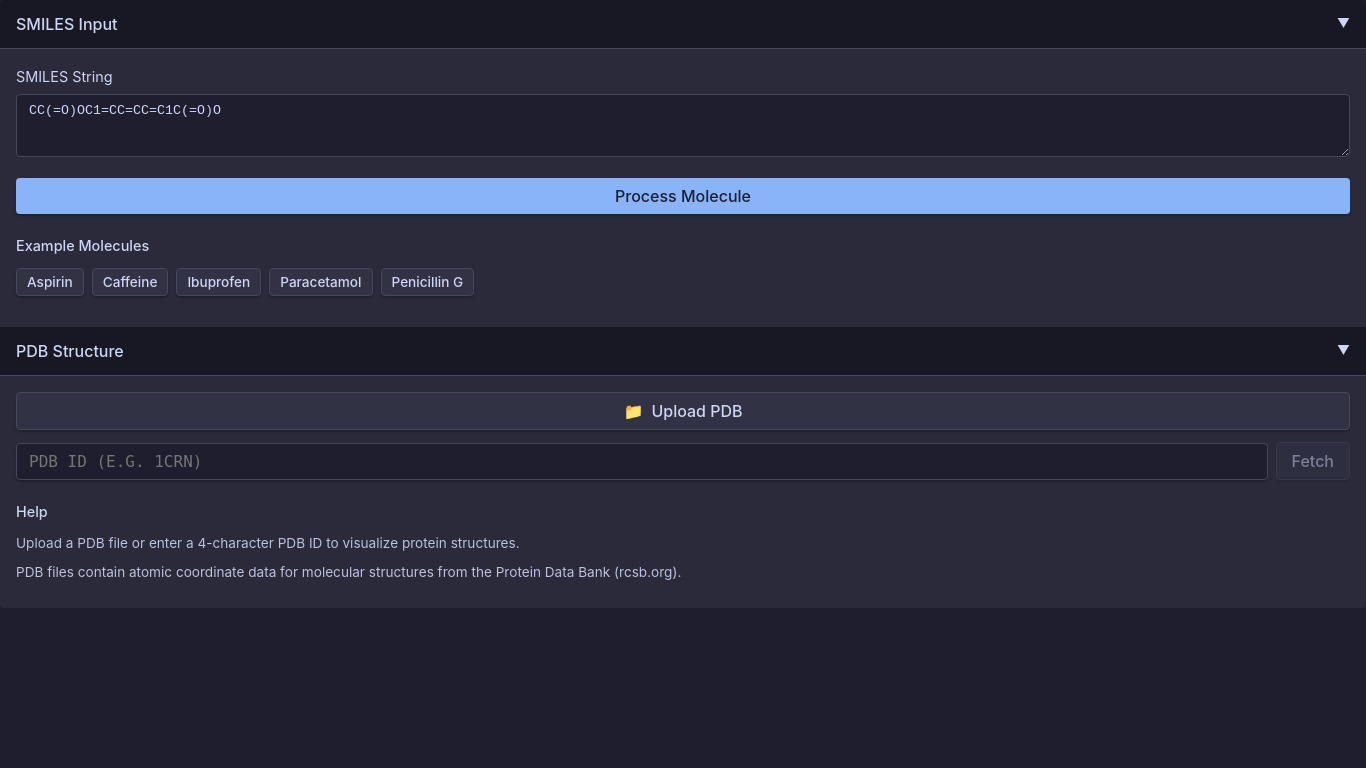
Test: MoleculeControls Component › toggles PDB section visibility
Expected: the button "📁 Upload PDB" is shown, [16, 392, 1350, 430]
// Click toggle button
Click the element showing "PDB Structure ▼": (683, 352) [0, 327, 1365, 376]
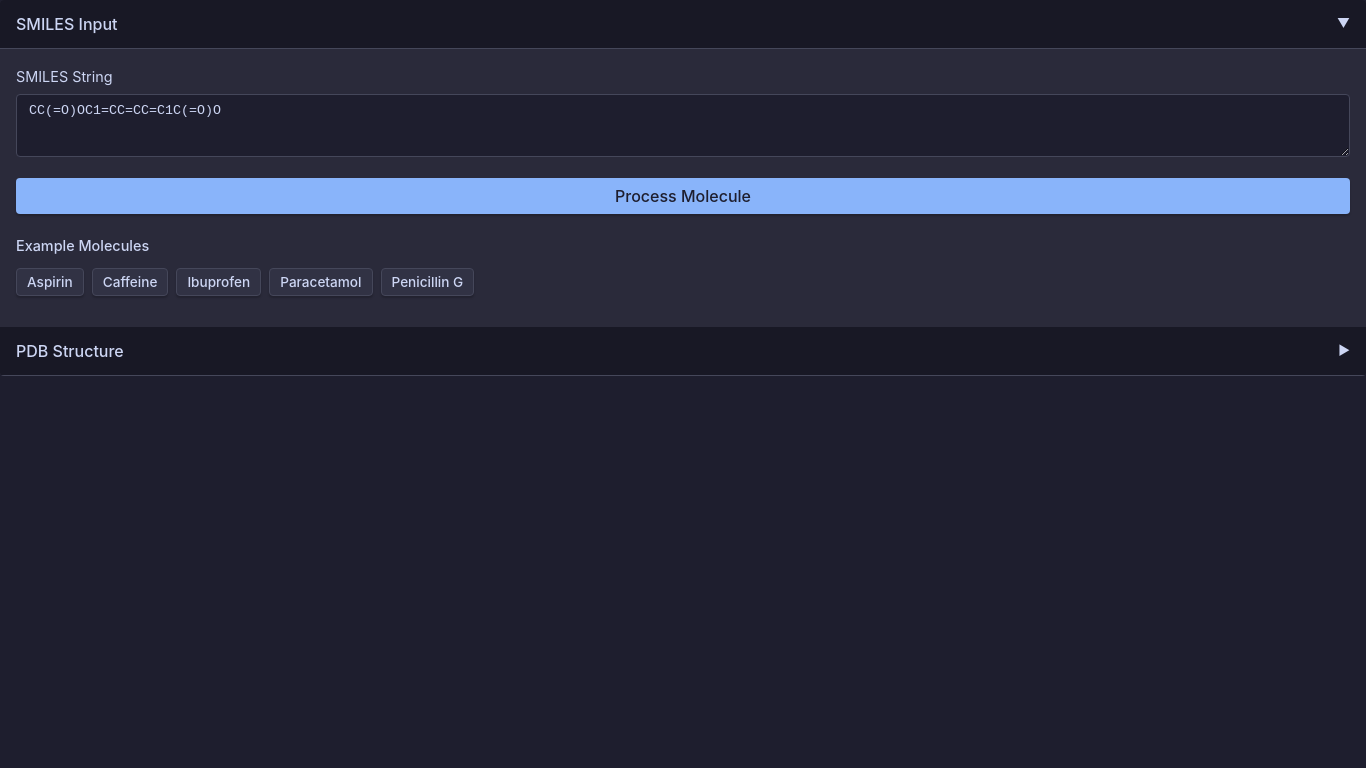
Result: the button "Upload PDB" is gone
// Click toggle button again
Click the element showing "PDB Structure ▶": (683, 352) [0, 327, 1365, 376]
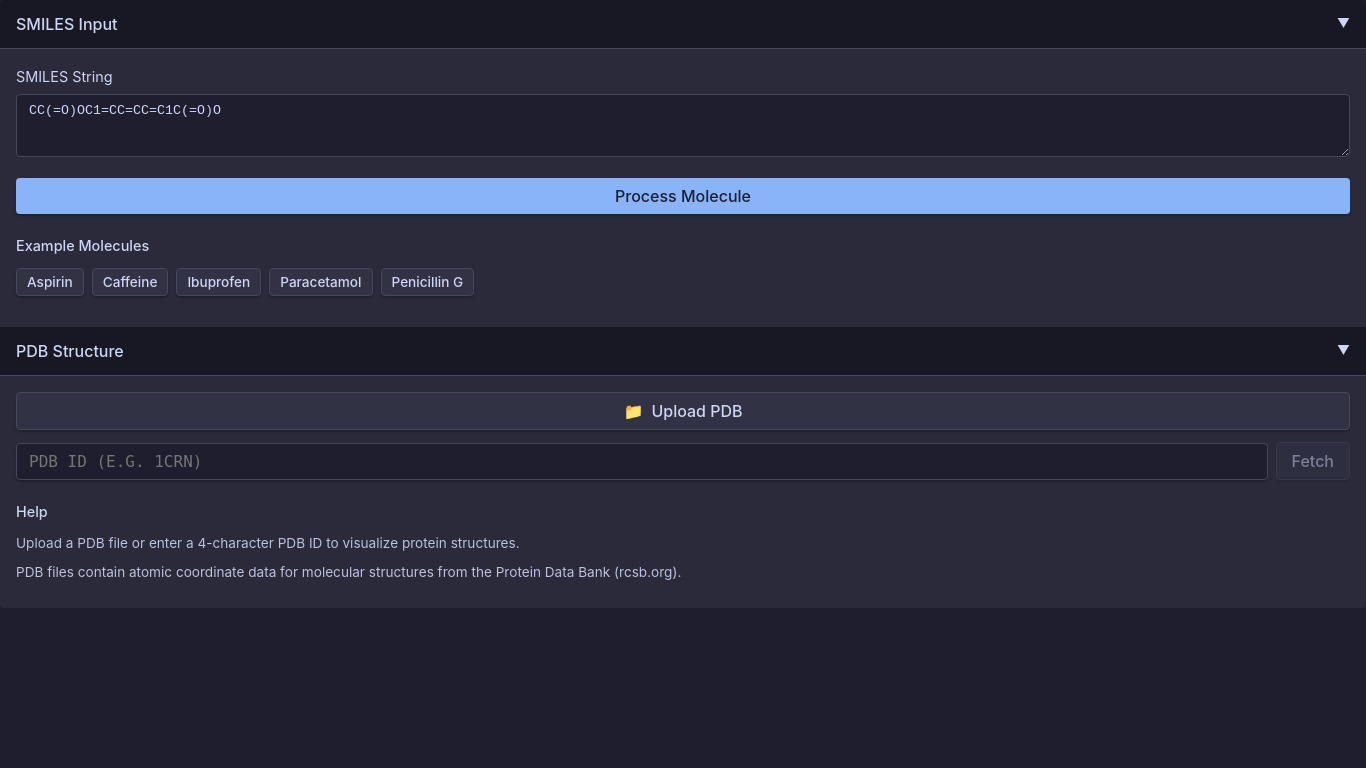
Result: the button "📁 Upload PDB" is shown at [16, 392, 1350, 430]
